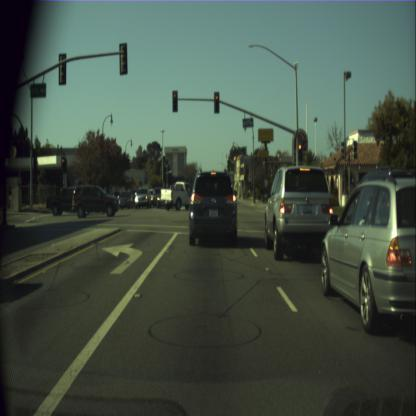Red: (214, 90, 219, 113), (298, 142, 302, 163)
RedLeft: (172, 90, 178, 112), (62, 156, 66, 172)
